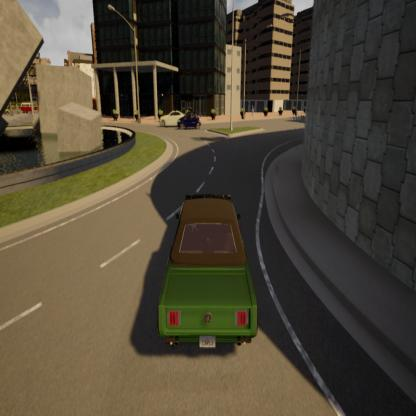Cars: (148, 183, 263, 366), (176, 109, 204, 134), (161, 105, 188, 130)
